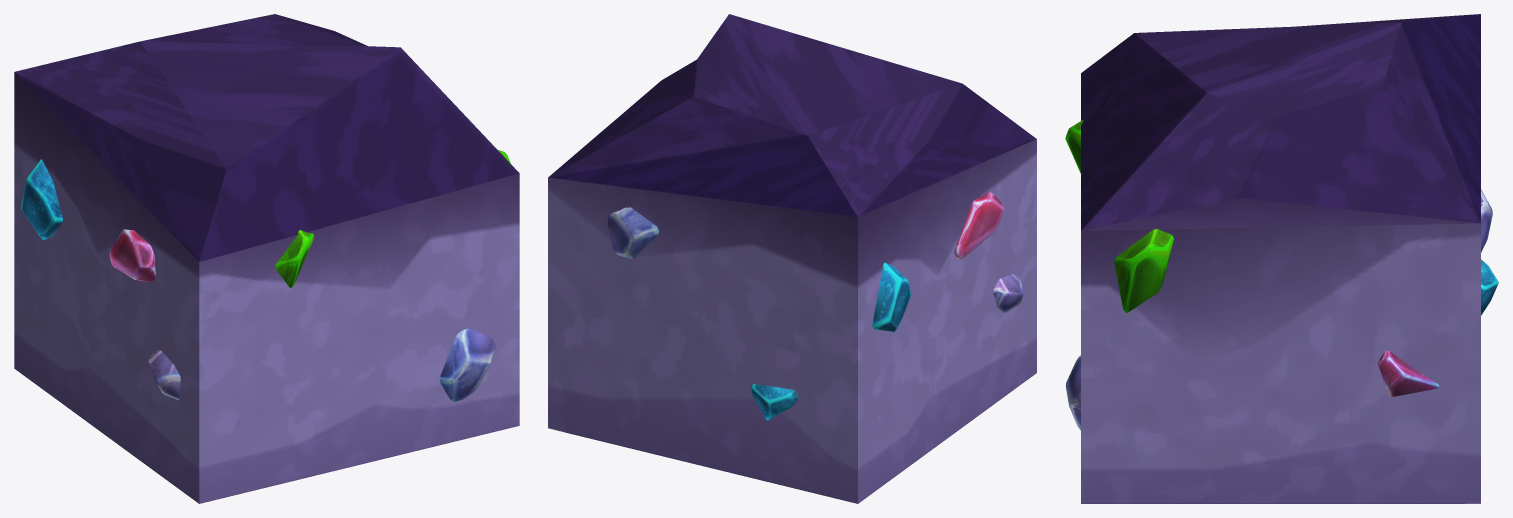
File: Rock_03_006.fbx
The picture shows the model from 3 angles, left to right: view 1: azimuth 30°, elevation 25°; view 2: azimuth 150°, elevation 25°; view 3: azimuth 270°, elevation 25°; orthographic projection. The views are drawn at different scales.
Parts seen in each view (by area): view 1: Rock_03_005, GemStone202, GemStone101, GemStone300, GemStone401, GemStone201; view 2: Rock_03_005, GemStone101, GemStone200, GemStone300, GemStone100, GemStone201; view 3: Rock_03_005, GemStone400, GemStone301, GemStone202, GemStone100, GemStone401.
Boxes of the visible parts, left/top/right/bottom form: Rock_03_005: left=14, top=14, right=519, bottom=503; GemStone202: left=439, top=328, right=495, bottom=401; GemStone101: left=21, top=159, right=62, bottom=239; GemStone300: left=109, top=229, right=155, bottom=282; GemStone401: left=275, top=230, right=314, bottom=287; GemStone201: left=148, top=350, right=180, bottom=399; Rock_03_005: left=548, top=14, right=1036, bottom=503; GemStone101: left=872, top=263, right=911, bottom=332; GemStone200: left=607, top=207, right=658, bottom=258; GemStone300: left=954, top=192, right=1003, bottom=259; GemStone100: left=751, top=383, right=798, bottom=420; GemStone201: left=993, top=274, right=1023, bottom=312; Rock_03_005: left=1081, top=14, right=1480, bottom=503; GemStone400: left=1114, top=229, right=1173, bottom=312; GemStone301: left=1377, top=350, right=1439, bottom=397; GemStone202: left=1065, top=355, right=1080, bottom=430; GemStone100: left=1481, top=259, right=1498, bottom=315; GemStone401: left=1065, top=120, right=1083, bottom=173.
Size of the model in its own units: 222 by 209 by 217.
Materials: 5 (5 with a texture image).
